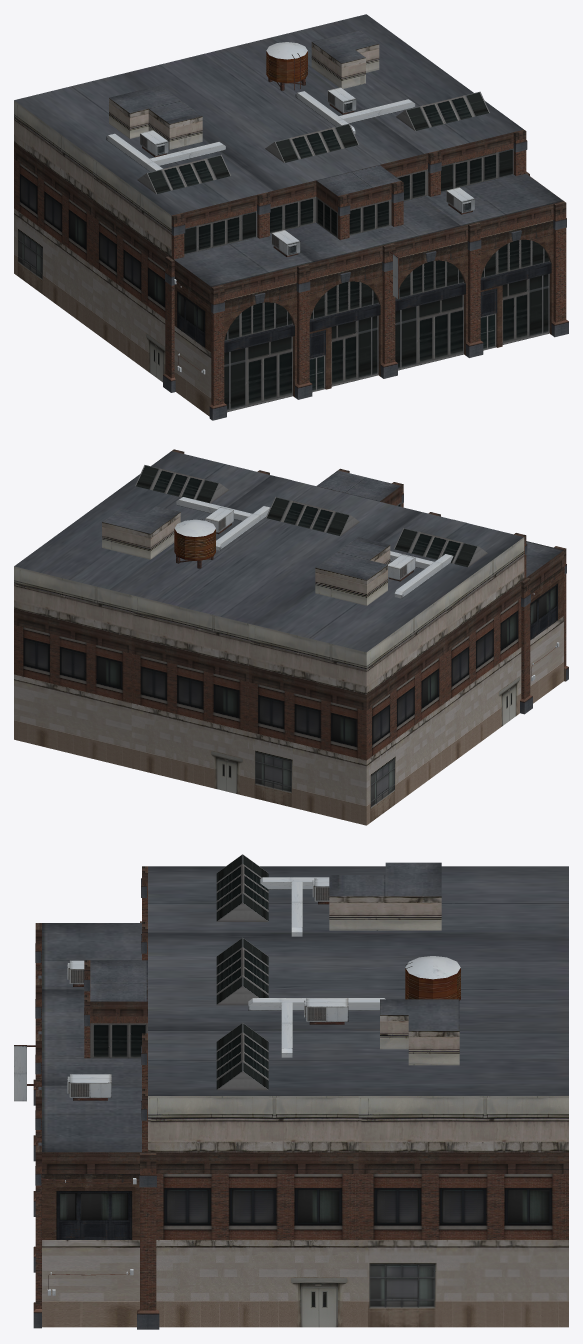
The model's file is downtown_mall_1.glb.
3 renders of one model, top to bottom at view 1: azimuth 30°, elevation 25°; view 2: azimuth 150°, elevation 25°; view 3: azimuth 270°, elevation 25°, orthographic. The views are drawn at different scales.
Parts seen in each view (by area): view 1: Downtown_Mall_1_Downtown_Facade_FLR_2_0, Downtown_Mall_1_Downtown_Firstfloor_FLR_2_0; view 2: Downtown_Mall_1_Downtown_Facade_FLR_2_0, Downtown_Mall_1_Downtown_Firstfloor_FLR_2_0; view 3: Downtown_Mall_1_Downtown_Facade_FLR_2_0, Downtown_Mall_1_Downtown_Firstfloor_FLR_2_0.
Boxes of the visible parts, box(x1,y1,x2,y2) form: Downtown_Mall_1_Downtown_Facade_FLR_2_0: box(14, 14, 568, 420); Downtown_Mall_1_Downtown_Firstfloor_FLR_2_0: box(106, 42, 549, 412); Downtown_Mall_1_Downtown_Facade_FLR_2_0: box(14, 449, 568, 825); Downtown_Mall_1_Downtown_Firstfloor_FLR_2_0: box(135, 465, 564, 681); Downtown_Mall_1_Downtown_Facade_FLR_2_0: box(33, 862, 568, 1329); Downtown_Mall_1_Downtown_Firstfloor_FLR_2_0: box(14, 854, 460, 1295).
Size of the model in its own units: 31.67 by 17.74 by 31.59.
2 materials, 2 textured.
